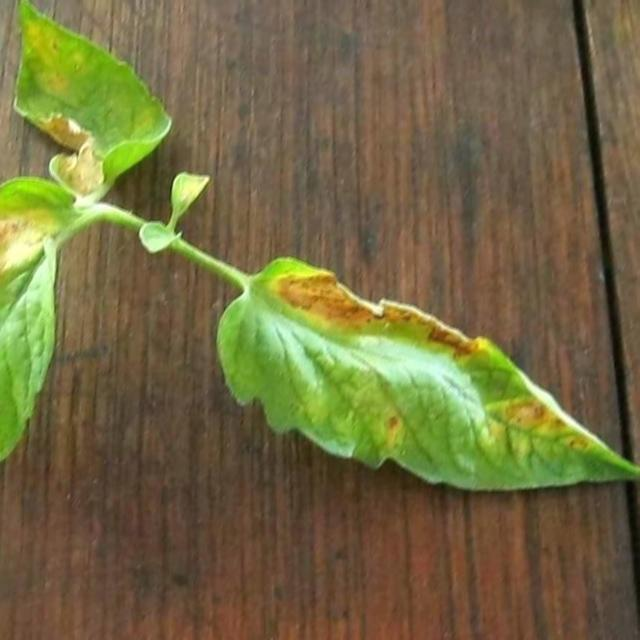Tomato Early blight leaf: (215, 259, 640, 513), (0, 163, 85, 512)
